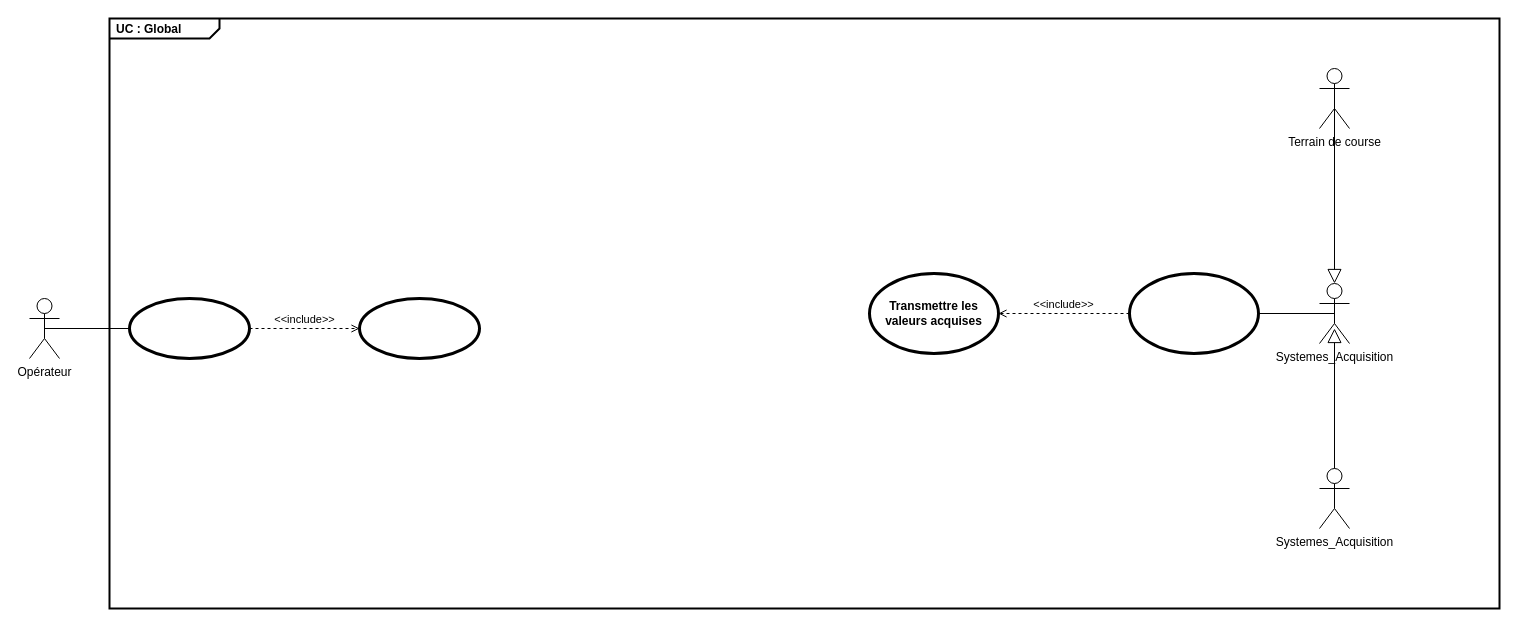
Some shapes in this 1517 by 626 pixel diagram are drawn without their labels. The shapes that lost their labels are listed below. From the top down, each one's centre as x and y in pixels, then its label:
point (189, 328): Consulter
point (419, 328): Analyser donnée
point (1194, 313): Acquérir des valeurs significatives
